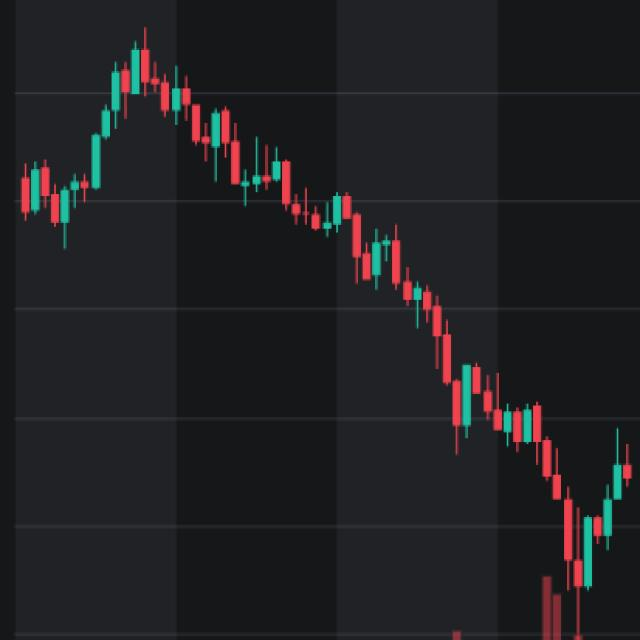Support-breakout: (93, 35, 576, 568)
